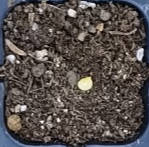pepper seed: (31, 31, 125, 122)
